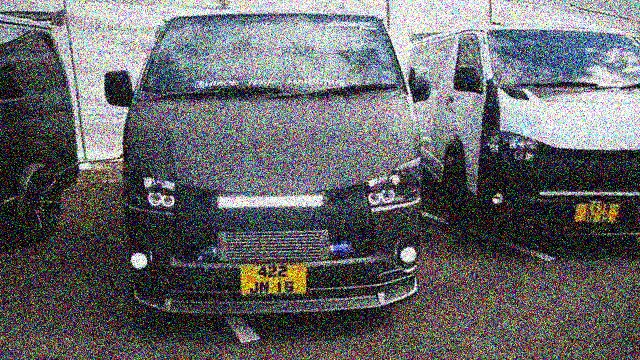van: (111, 10, 429, 320), (407, 32, 640, 263)
